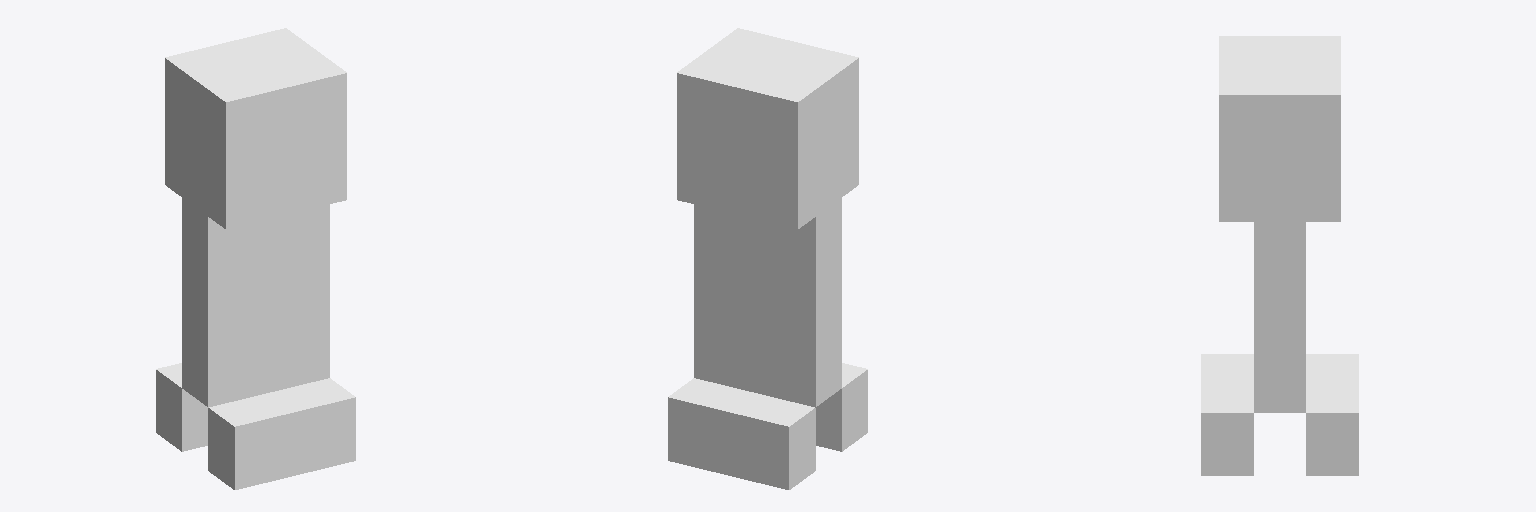
File: kuri-oer-.obj
The picture shows the model from 3 angles: view 1: azimuth 30°, elevation 25°; view 2: azimuth 150°, elevation 25°; view 3: azimuth 270°, elevation 25°; orthographic projection.
Visible parts, largest first — view 1: object 1; view 2: object 1; view 3: object 1.
Boxes of the visible parts, box(x1,y1,x2,y2) form: object 1: box(156, 28, 355, 489); object 1: box(668, 28, 867, 489); object 1: box(1201, 36, 1358, 475).
Bounding box in the file's own units: 0.8 × 2.4 × 0.9.